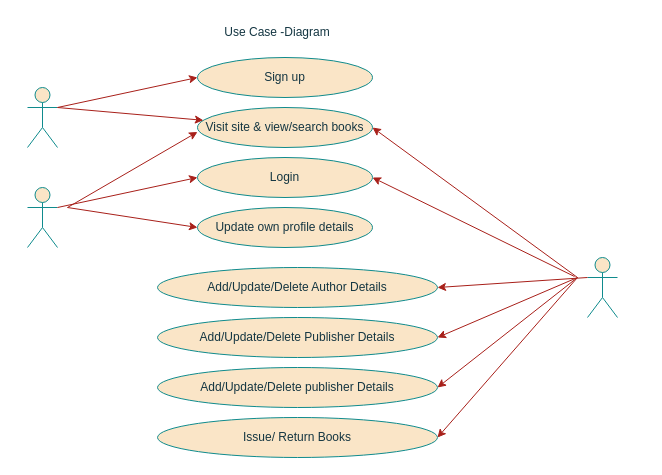
Image size: 662x475. Some labels were removed from this diagram. The centre of each missing label's shape, as x and y in pixels:
"Admin/Librarian" belongs at (x=602, y=287).
"Everyone" belongs at (x=42, y=117).
"Member" belongs at (x=42, y=217).
